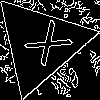X: (15, 19, 74, 74)
